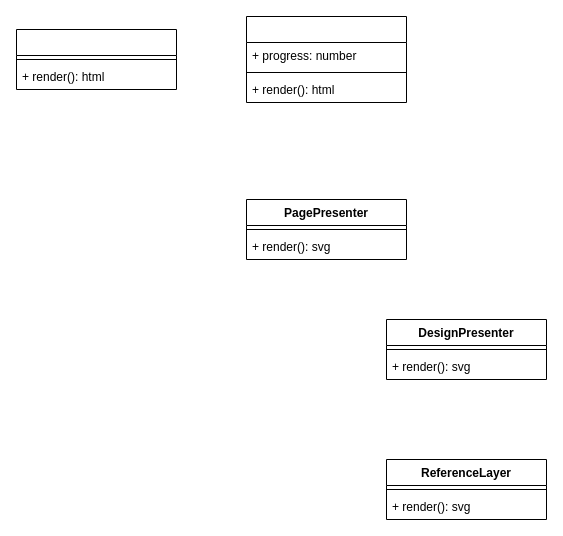
The diagram is 563 pixels wide and 536 high, and some of its shapes have lost their labels. The box of each missing label's shape, as (x1, y1, x2, y2) in pixels:
ProgressBar: (246, 16, 406, 102)
Stage: (16, 28, 176, 90)
